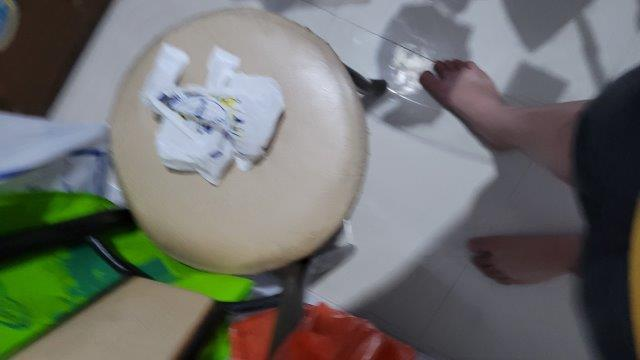plastik: (141, 43, 284, 184)
